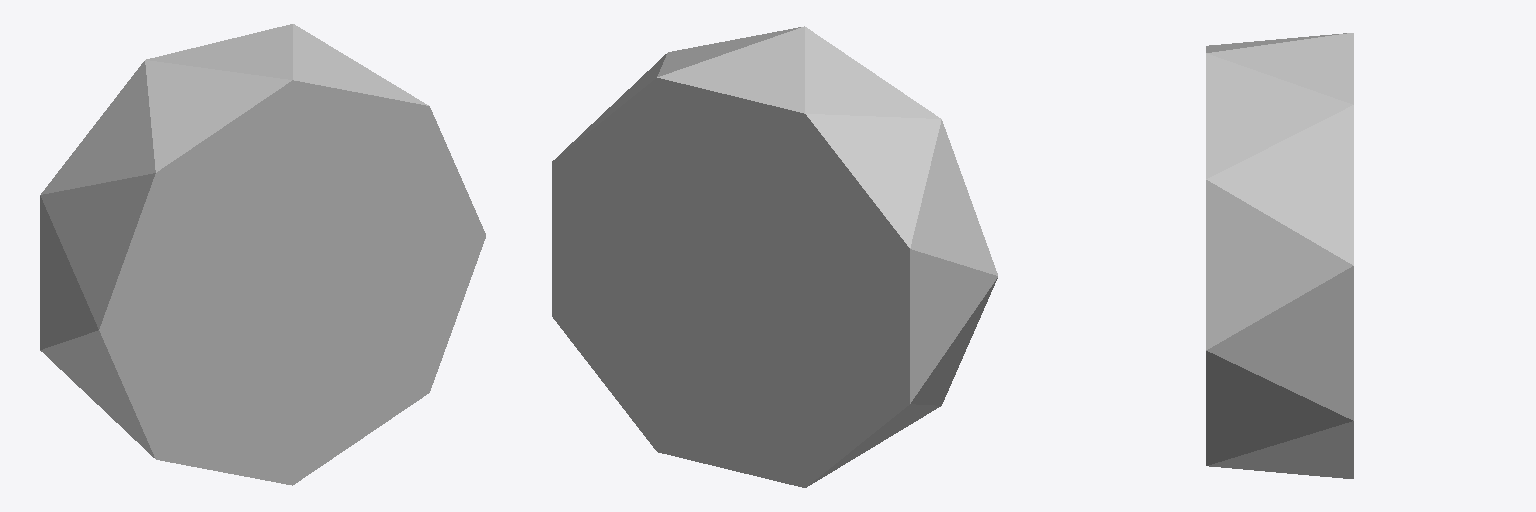
Rendered from OctagonalAntiPrism.obj.
The picture shows the model from 3 angles: view 1: azimuth 30°, elevation 25°; view 2: azimuth 150°, elevation 25°; view 3: azimuth 270°, elevation 25°; orthographic projection.
Parts seen in each view (by area): view 1: OctagonalAntiPrism; view 2: OctagonalAntiPrism; view 3: OctagonalAntiPrism.
Boxes of the visible parts, x1=… form: OctagonalAntiPrism: x1=40, y1=24, x2=485, y2=485; OctagonalAntiPrism: x1=552, y1=26, x2=997, y2=487; OctagonalAntiPrism: x1=1206, y1=33, x2=1353, y2=478.
Bounding box in the file's own units: 1.96 × 1.96 × 0.6452.